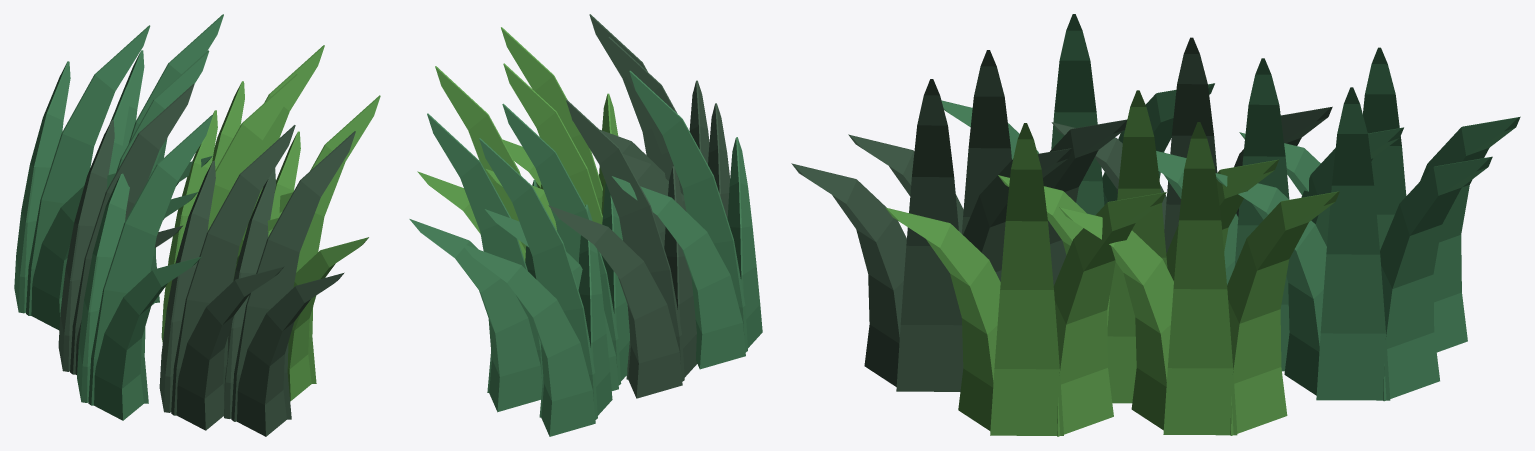
Rendered from Grass.fbx.
3 renders of one model, left to right at view 1: azimuth 30°, elevation 25°; view 2: azimuth 150°, elevation 25°; view 3: azimuth 270°, elevation 25°, orthographic. The views are drawn at different scales.
Visible parts, largest first — view 1: gramacomp1.009, gramacomp1.001, gramacomp1.003, gramacomp1, gramacomp1.008, gramacomp1.007, gramacomp1.004, gramacomp1.005, gramacomp1.006, gramacomp1.002; view 2: gramacomp1, gramacomp1.009, gramacomp1.008, gramacomp1.005, gramacomp1.002, gramacomp1.001, gramacomp1.007, gramacomp1.004, gramacomp1.006, gramacomp1.003; view 3: gramacomp1.007, gramacomp1.006, gramacomp1.005, gramacomp1.003, gramacomp1, gramacomp1.004, gramacomp1.001, gramacomp1.002, gramacomp1.009, gramacomp1.008.
Boxes of the visible parts, x1,y1,x2,y2 form: gramacomp1.009: (77, 115, 212, 420); gramacomp1.001: (159, 125, 295, 430); gramacomp1.003: (224, 131, 355, 436); gramacomp1: (14, 25, 150, 330); gramacomp1.008: (58, 84, 194, 374); gramacomp1.007: (268, 95, 380, 401); gramacomp1.004: (161, 74, 297, 342); gramacomp1.005: (118, 14, 223, 305); gramacomp1.006: (212, 45, 324, 280); gramacomp1.002: (108, 50, 209, 219); gramacomp1: (461, 138, 612, 436); gramacomp1.009: (612, 70, 762, 369); gramacomp1.008: (548, 100, 697, 398); gramacomp1.005: (409, 113, 543, 412); gramacomp1.002: (485, 103, 629, 390); gramacomp1.001: (608, 37, 730, 227); gramacomp1.007: (501, 27, 618, 211); gramacomp1.004: (486, 63, 612, 230); gramacomp1.006: (417, 66, 543, 261); gramacomp1.003: (572, 14, 709, 247); gramacomp1.007: (885, 123, 1166, 436); gramacomp1.006: (1059, 122, 1339, 435); gramacomp1.005: (1215, 87, 1492, 401); gramacomp1.003: (791, 79, 1072, 391); gramacomp1: (1239, 47, 1520, 352); gramacomp1.004: (998, 90, 1278, 403); gramacomp1.001: (848, 50, 1127, 285); gramacomp1.002: (1156, 58, 1403, 371); gramacomp1.009: (941, 14, 1214, 215); gramacomp1.008: (1051, 37, 1332, 253).
Size of the model in its own units: 41.33 by 37.4 by 66.04.
